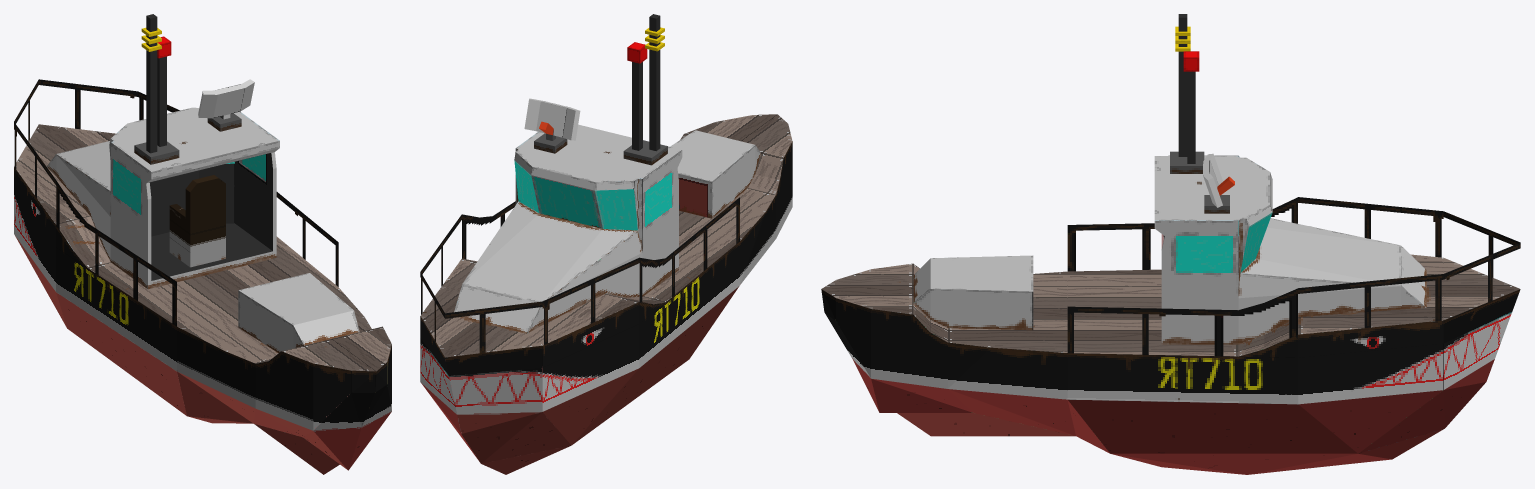
Rendered from Boat.gltf.
The picture shows the model from 3 angles, left to right: view 1: azimuth 30°, elevation 25°; view 2: azimuth 150°, elevation 25°; view 3: azimuth 270°, elevation 25°; orthographic projection. The views are drawn at different scales.
Parts seen in each view (by area): view 1: Basic Shell, Cockpit, Back part, Railings, Chair, Tall Antenna, Dish, Antenna, Chair Base, Antenna Base, cuboid; view 2: Basic Shell, Cockpit, Back part, Railings, Tall Antenna, Dish, Antenna, Antenna Base, cuboid; view 3: Basic Shell, Cockpit, Railings, Back part, Tall Antenna, Antenna, Dish.
Boxes of the visible parts, x1=… form: Basic Shell: x1=14, y1=124, x2=391, y2=474; Cockpit: x1=46, y1=107, x2=279, y2=289; Back part: x1=238, y1=273, x2=359, y2=353; Railings: x1=14, y1=79, x2=338, y2=326; Chair: x1=169, y1=175, x2=225, y2=252; Tall Antenna: x1=141, y1=14, x2=161, y2=153; Dish: x1=198, y1=79, x2=254, y2=119; Antenna: x1=157, y1=36, x2=171, y2=146; Chair Base: x1=169, y1=238, x2=225, y2=267; Antenna Base: x1=134, y1=141, x2=179, y2=164; cuboid: x1=207, y1=113, x2=241, y2=131; Basic Shell: x1=420, y1=114, x2=792, y2=474; Cockpit: x1=454, y1=124, x2=682, y2=333; Back part: x1=670, y1=130, x2=760, y2=218; Railings: x1=420, y1=197, x2=739, y2=353; Tall Antenna: x1=645, y1=14, x2=664, y2=151; Dish: x1=524, y1=98, x2=580, y2=140; Antenna: x1=627, y1=42, x2=647, y2=150; Antenna Base: x1=623, y1=140, x2=667, y2=165; cuboid: x1=534, y1=133, x2=567, y2=153; Basic Shell: x1=821, y1=254, x2=1520, y2=474; Cockpit: x1=1154, y1=155, x2=1426, y2=344; Railings: x1=1067, y1=197, x2=1520, y2=356; Back part: x1=913, y1=255, x2=1033, y2=330; Tall Antenna: x1=1175, y1=14, x2=1190, y2=156; Antenna: x1=1183, y1=51, x2=1199, y2=163; Dish: x1=1203, y1=153, x2=1234, y2=207.
Bounding box in the file's own units: 1.58 × 3.5 × 5.11.
Materials: 1 (1 with a texture image).
